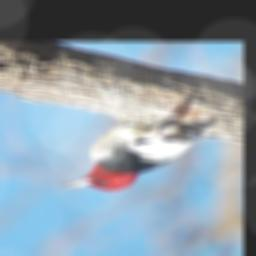Woodpecker: (55, 112, 206, 192)
